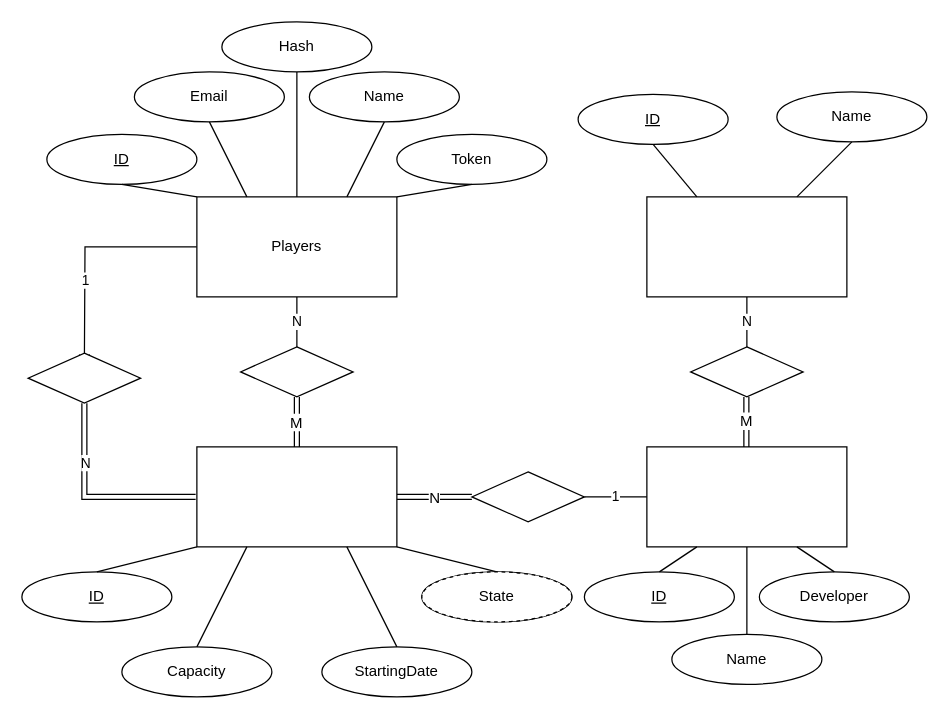
Some shapes in this 949 by 719 pixel diagram are drawn without their labels. Here are the shapes that lost their labels. From the top down, the centre of each, then its label:
point 746,246: Genres
point 84,377: Criador
point 296,371: Pertence
point 296,496: GamingSessions
point 746,496: Games
